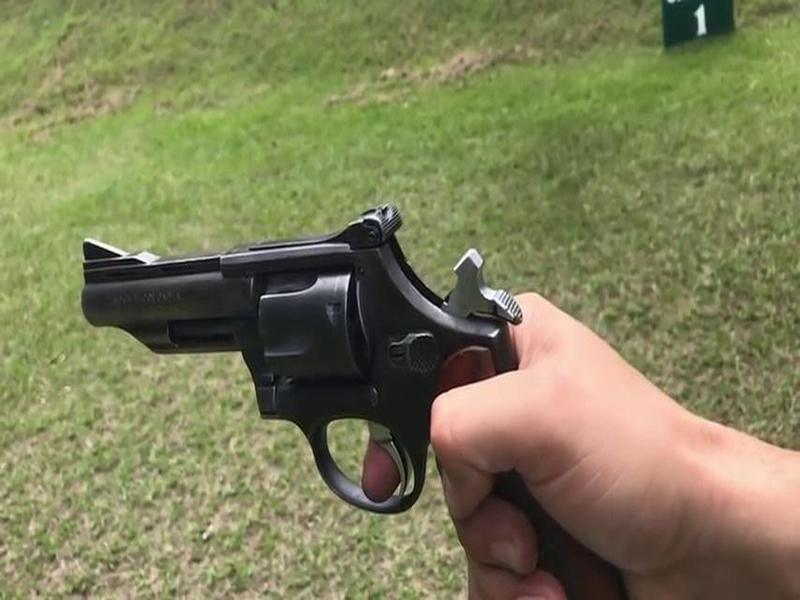Revolver: (47, 205, 599, 574)
